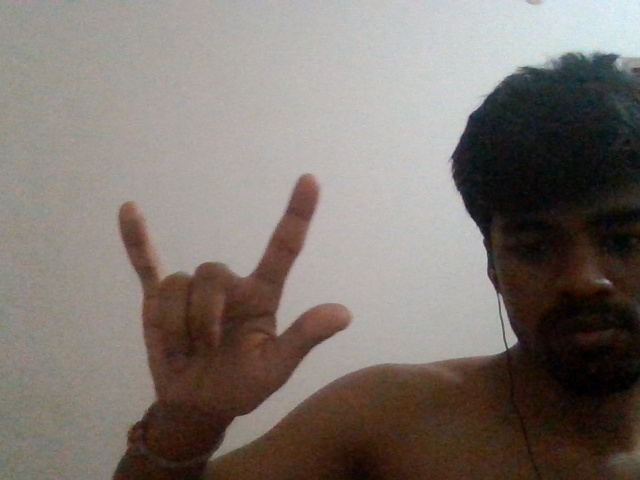ILoveYou: (105, 165, 363, 425)
